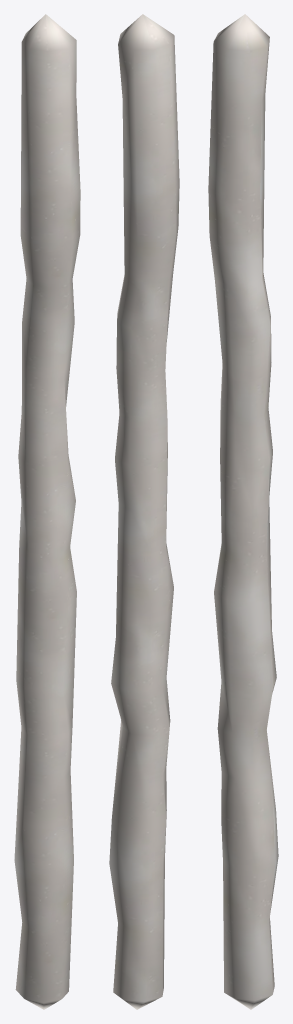
File: wall.gingerbread.corner.r.glb
3 renders of one model, left to right at view 1: azimuth 90°, elevation 25°; view 2: azimuth 150°, elevation 25°; view 3: azimuth 330°, elevation 25°, orthographic.
Visible parts, largest first — view 1: wall.corner.L_LOD0; view 2: wall.corner.L_LOD0; view 3: wall.corner.L_LOD0.
Boxes of the visible parts, x1,y1,x2,y2 form: wall.corner.L_LOD0: [14, 14, 80, 1009]; wall.corner.L_LOD0: [109, 14, 179, 1009]; wall.corner.L_LOD0: [208, 14, 278, 1009].
Size of the model in its own units: 0.1934 by 3.11 by 0.1867.
1 material, 1 textured.
